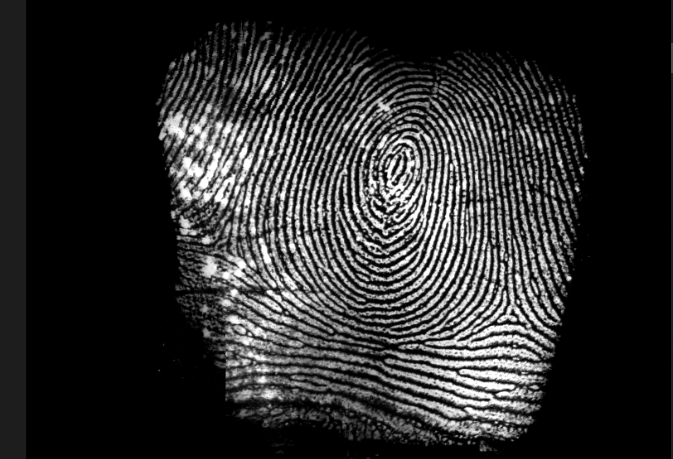nucelo: (378, 132, 409, 201)
verticilo: (207, 220, 246, 268), (495, 288, 532, 333)
